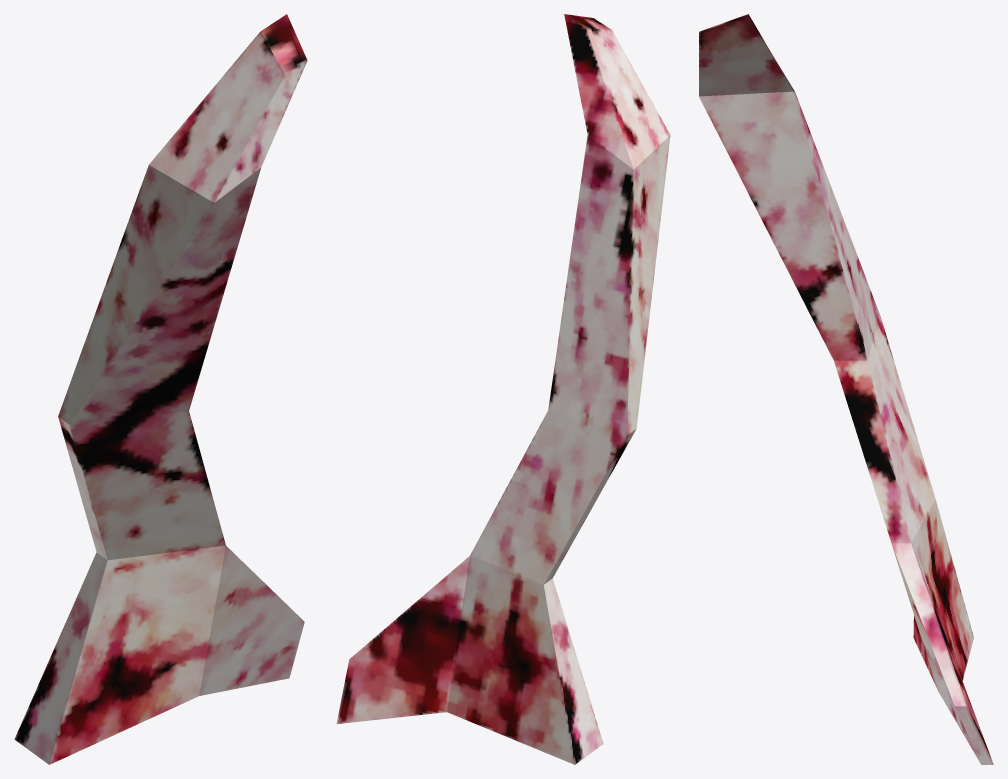
Rendered from TornJaw1.fbx.
The picture shows the model from 3 angles, left to right: view 1: azimuth 30°, elevation 25°; view 2: azimuth 150°, elevation 25°; view 3: azimuth 270°, elevation 25°; orthographic projection. The views are drawn at different scales.
Visible parts, largest first — view 1: TornJaw1; view 2: TornJaw1; view 3: TornJaw1.
Boxes of the visible parts, x1=… form: TornJaw1: x1=14, y1=14, x2=307, y2=764; TornJaw1: x1=336, y1=14, x2=670, y2=764; TornJaw1: x1=699, y1=14, x2=993, y2=764.
Size of the model in its own units: 219 by 575 by 222.
